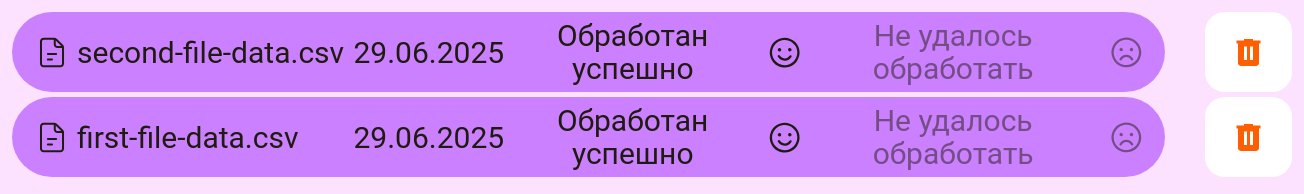
Test: Интеграционные тесты HistoryList › Удаление элементов › должен удалять элемент из хранилища и store при удалении
Expected: the text "first-file-data.csv" is shown, x1=77 y1=120 x2=298 y2=154
Expected: the text "second-file-data.csv" is shown, x1=77 y1=36 x2=344 y2=68
Click the button named "Удалить файл first-file-data.csv" at (1248, 137), box x1=1205 y1=97 x2=1292 y2=177
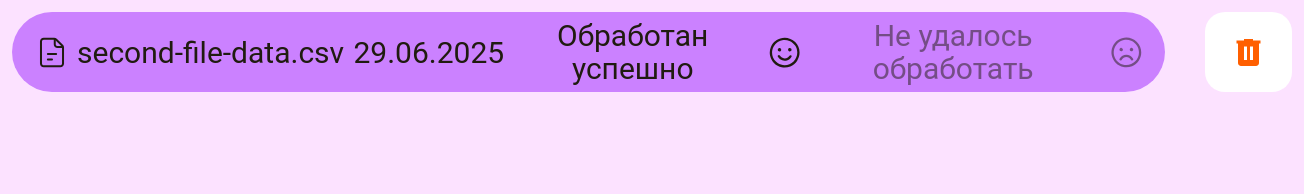
Expected: the text "second-file-data.csv" is shown, x1=77 y1=36 x2=344 y2=68
Result: the button "first-file-data.csv" is gone
